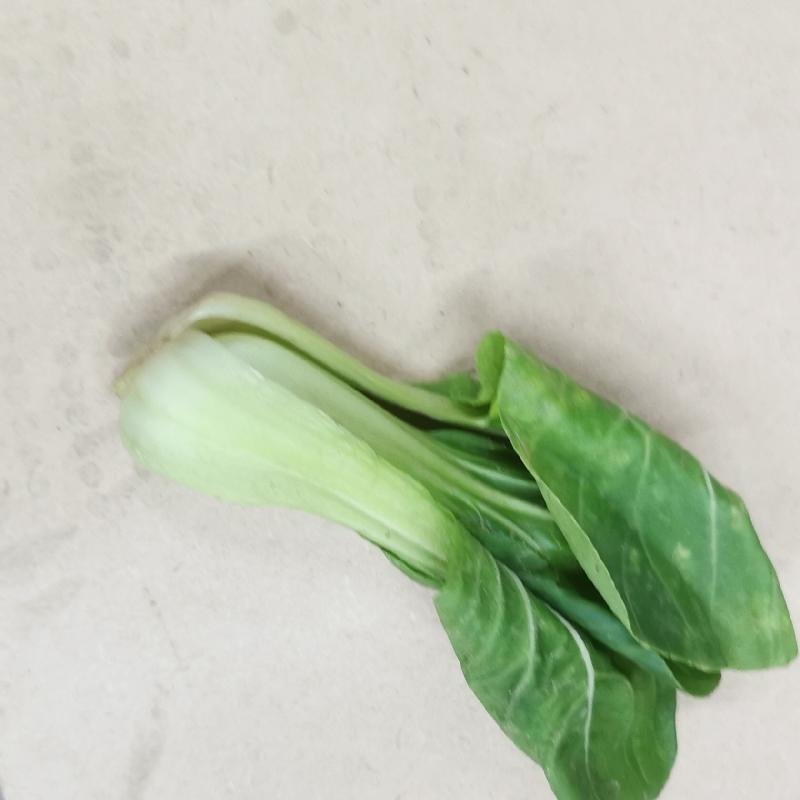green vegatable: (115, 285, 800, 799)
